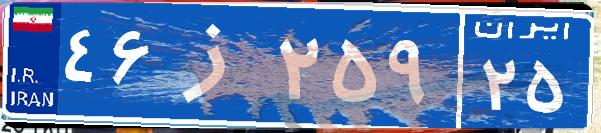2: (273, 28, 330, 110), (475, 38, 525, 113)
4: (57, 26, 110, 107)
5: (330, 28, 385, 110), (525, 38, 570, 115)
6: (110, 28, 158, 105)
9: (385, 28, 445, 110)
ز: (158, 15, 273, 115)
